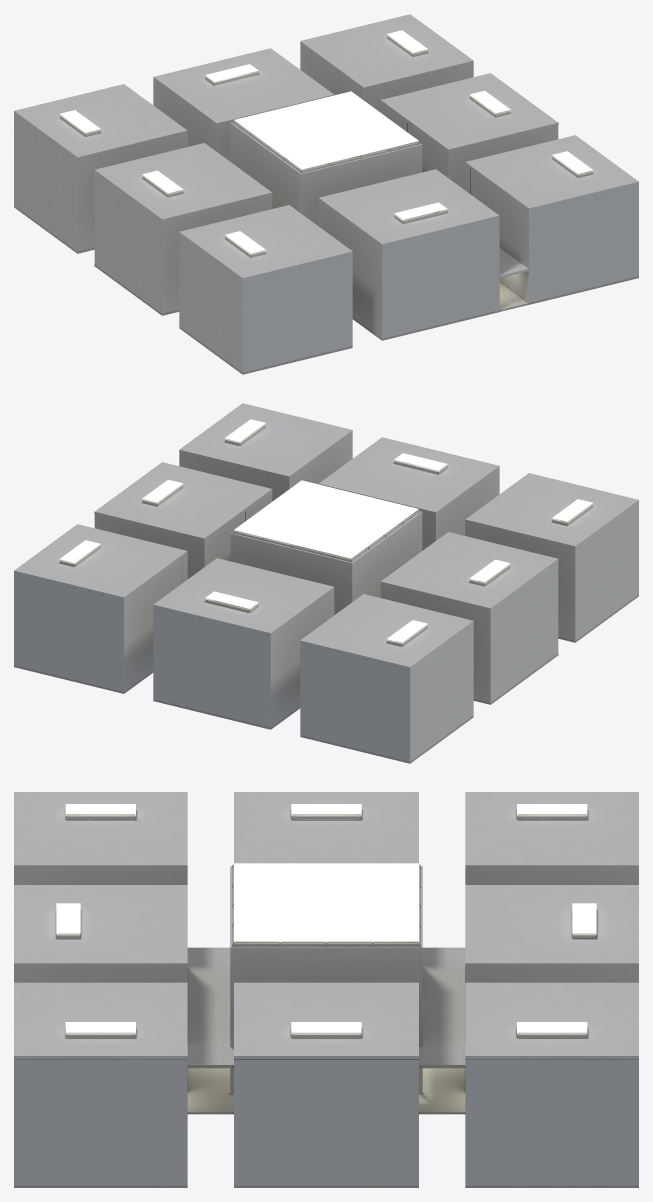
The model's file is gallery-textured.glb.
3 renders of one model, top to bottom at view 1: azimuth 30°, elevation 25°; view 2: azimuth 150°, elevation 25°; view 3: azimuth 270°, elevation 25°, orthographic. The views are drawn at different scales.
Visible parts, largest first — view 1: Room_07, Room_06, Room_05, Room_08, Room_01, Daylight, Room_04, Room_03, Room_02, Court, Promenade; view 2: Room_01, Room_02, Room_03, Room_08, Room_07, Daylight, Room_04, Room_05, Room_06, Court; view 3: Room_04, Room_03, Room_05, Daylight, Room_02, Room_06, Room_01, Room_07, Promenade, Room_08, Court.
Part boxes in pixels (left/top/right/bottom): Room_07: left=179, top=205, right=352, bottom=374; Room_06: left=318, top=169, right=499, bottom=340; Room_05: left=465, top=135, right=638, bottom=304; Room_08: left=94, top=143, right=272, bottom=315; Room_01: left=14, top=84, right=187, bottom=253; Daylight: left=60, top=30, right=592, bottom=253; Room_04: left=380, top=73, right=558, bottom=189; Room_03: left=300, top=14, right=473, bottom=112; Room_02: left=153, top=48, right=333, bottom=161; Court: left=230, top=121, right=422, bottom=225; Promenade: left=499, top=247, right=528, bottom=311; Room_01: left=300, top=594, right=473, bottom=763; Room_02: left=153, top=558, right=334, bottom=729; Room_03: left=14, top=524, right=187, bottom=693; Room_08: left=380, top=532, right=558, bottom=704; Room_07: left=465, top=473, right=638, bottom=642; Daylight: left=60, top=419, right=592, bottom=642; Room_04: left=94, top=462, right=272, bottom=578; Room_05: left=179, top=403, right=352, bottom=501; Room_06: left=319, top=437, right=499, bottom=550; Court: left=230, top=510, right=422, bottom=614; Room_04: left=234, top=982, right=418, bottom=1187; Room_03: left=465, top=982, right=638, bottom=1187; Room_05: left=14, top=982, right=187, bottom=1187; Daylight: left=56, top=804, right=596, bottom=1032; Room_02: left=465, top=885, right=638, bottom=982; Room_06: left=14, top=885, right=187, bottom=982; Room_01: left=465, top=792, right=638, bottom=884; Room_07: left=14, top=792, right=187, bottom=884; Promenade: left=187, top=947, right=465, bottom=1114; Room_08: left=234, top=792, right=418, bottom=863; Court: left=230, top=864, right=422, bottom=1094.
Bounding box in the file's own units: 54 × 14.63 × 54.
12 materials, 10 textured.
